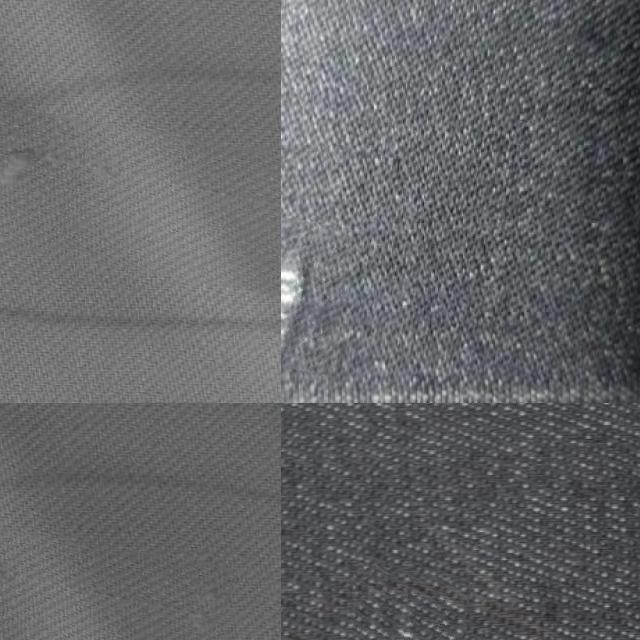Thread_other: (0, 114, 281, 286), (0, 518, 232, 640), (281, 213, 347, 369), (331, 566, 463, 640)
